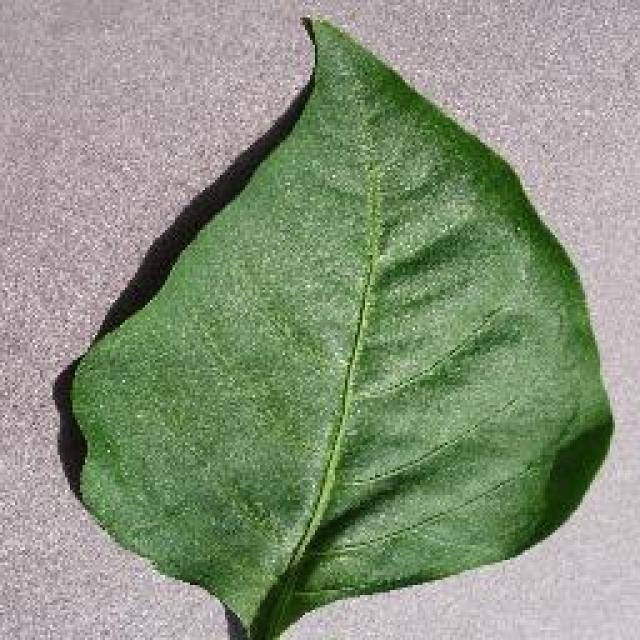Chilli_Healthy: (65, 12, 615, 638)
